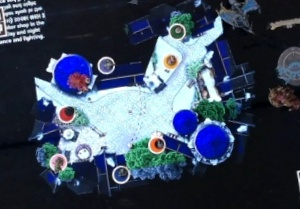blue: (108, 160, 131, 185)
green: (166, 19, 186, 43)
orange: (142, 133, 171, 157)
pink: (45, 149, 70, 176)
red: (54, 103, 76, 126)
violet: (93, 52, 116, 76)
yellow: (159, 50, 183, 71)
